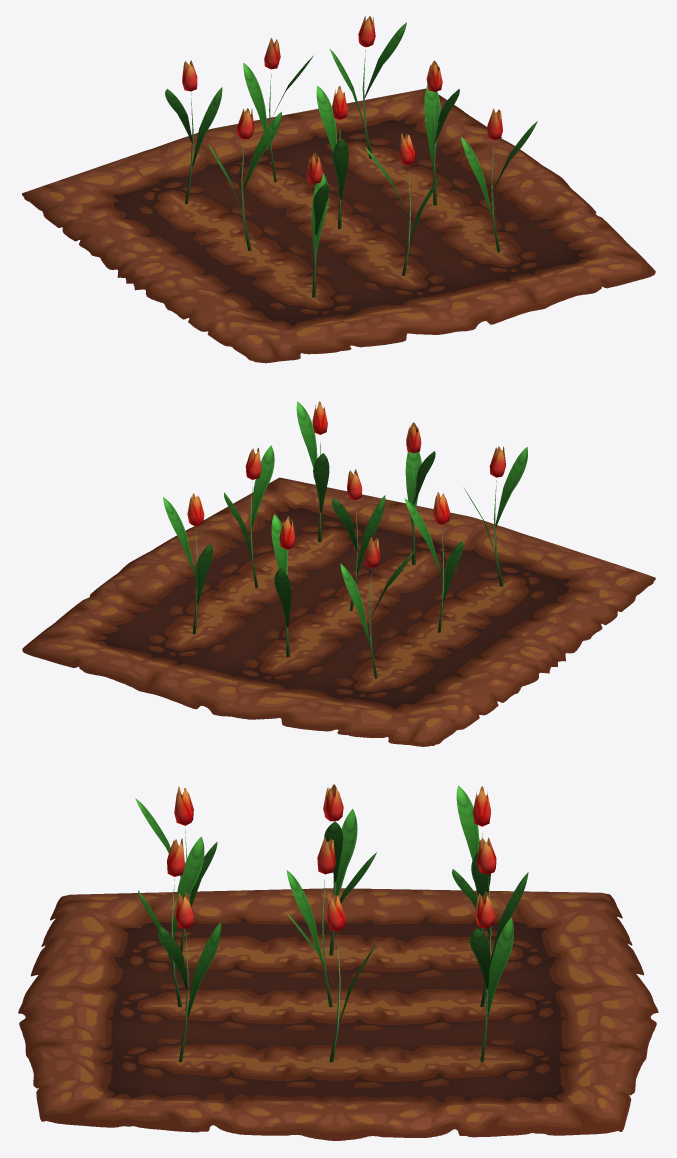
Rendered from Tulip_Field_Red_Lv2.FBX.
3 views of the same model, one above another, from view 1: azimuth 30°, elevation 25°; view 2: azimuth 150°, elevation 25°; view 3: azimuth 270°, elevation 25° (orthographic). The views are drawn at different scales.
Visible parts, largest first — view 1: Tulip_Field_Red_Lv2; view 2: Tulip_Field_Red_Lv2; view 3: Tulip_Field_Red_Lv2.
Boxes of the visible parts, <box> form: Tulip_Field_Red_Lv2: <box>22,16,655,363</box>; Tulip_Field_Red_Lv2: <box>22,401,655,746</box>; Tulip_Field_Red_Lv2: <box>18,784,658,1140</box>.
Bounding box in the file's own units: 274 × 88.48 × 296.
